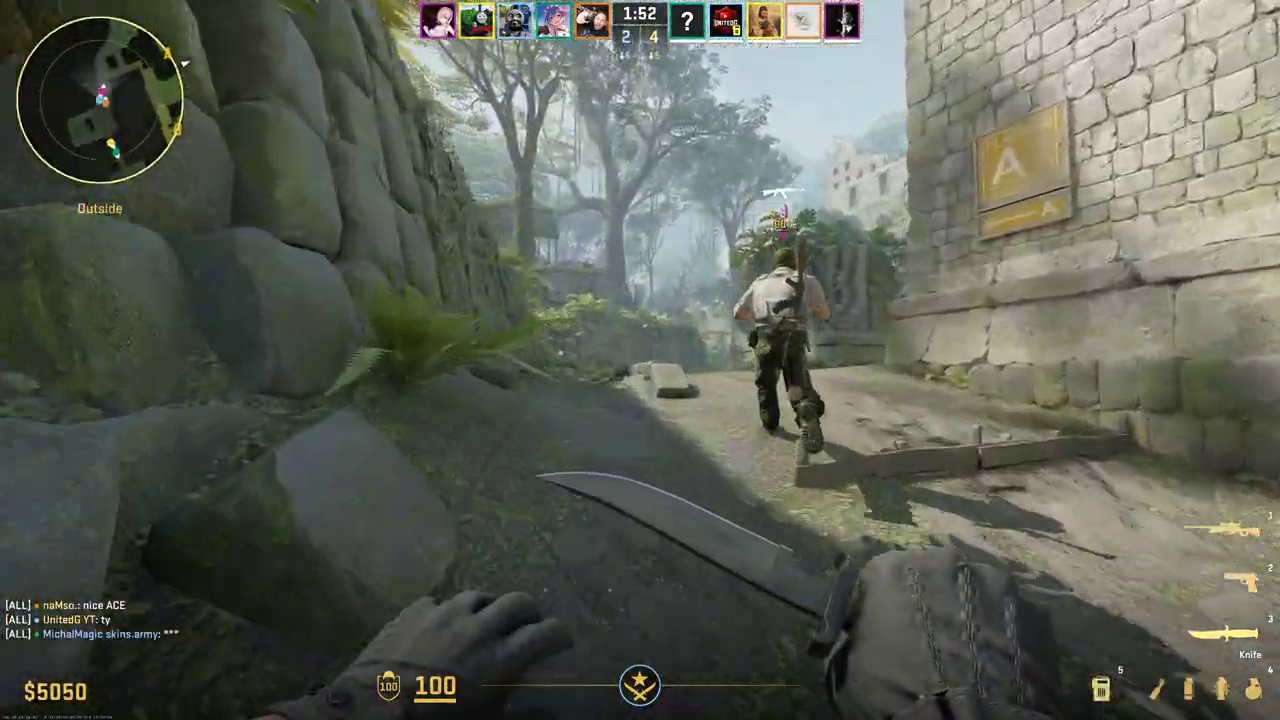Terrorist: (748, 248, 826, 455)
